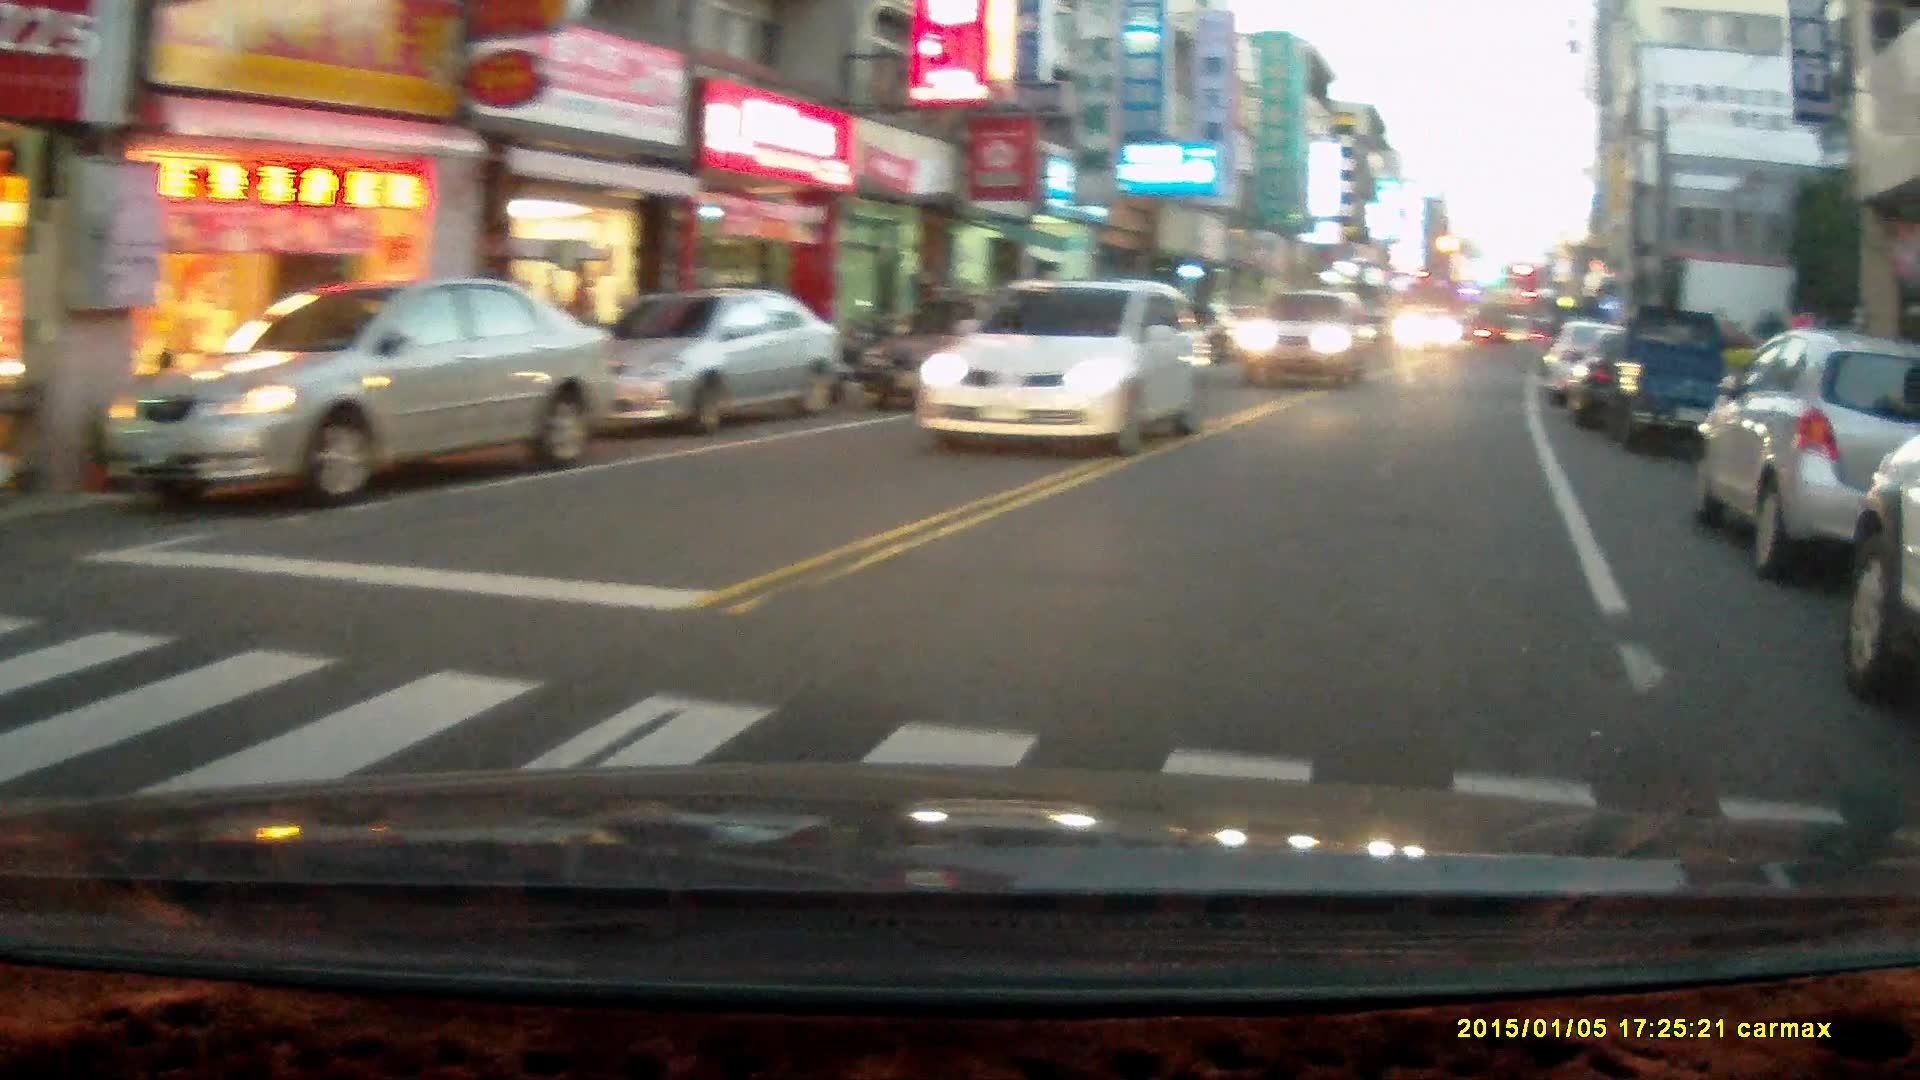vehicle: (88, 278, 596, 510), (1688, 327, 1920, 582), (914, 276, 1218, 456), (554, 285, 848, 430), (1589, 305, 1746, 452), (1238, 286, 1385, 385), (1539, 319, 1677, 411), (1395, 305, 1468, 353)
